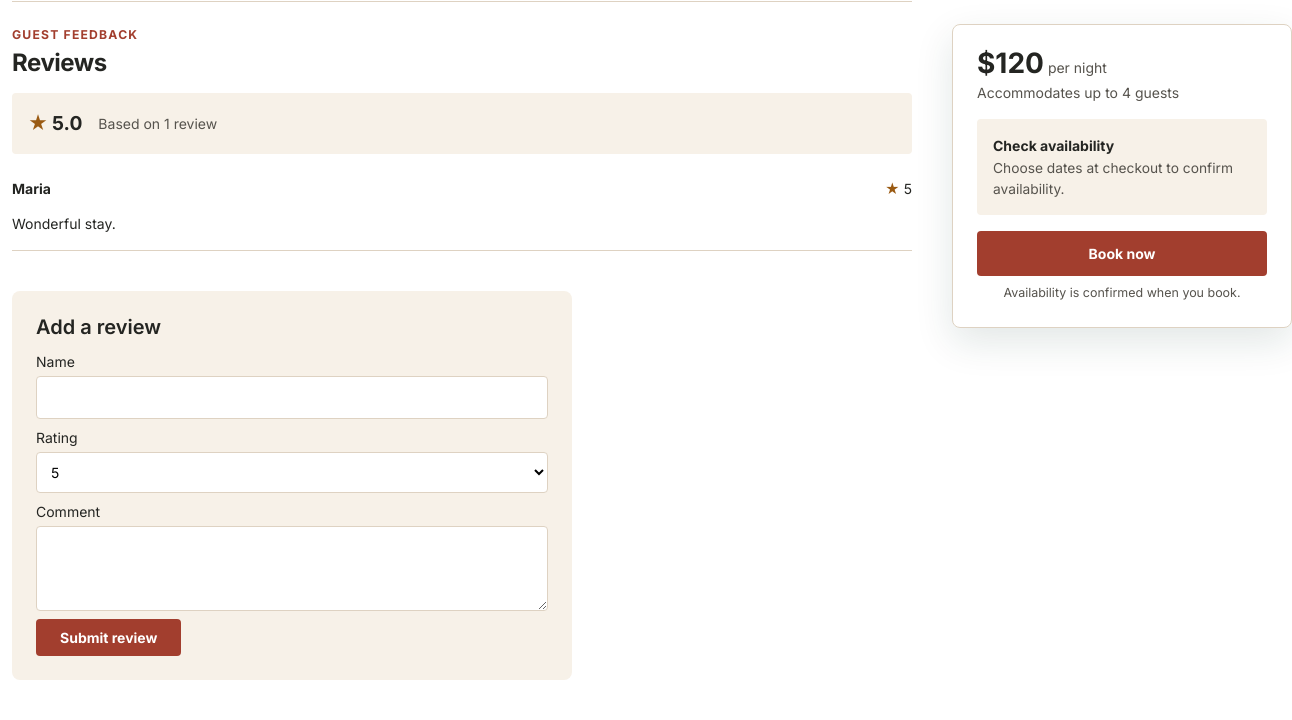
StayDetailPage reviews › keeps the form values and shows an error when submission fails
The image size is (1292, 720).
(page scrolled)
Type "Ada" into the field labelled "Name" at (292, 398), box [36,376,548,419]
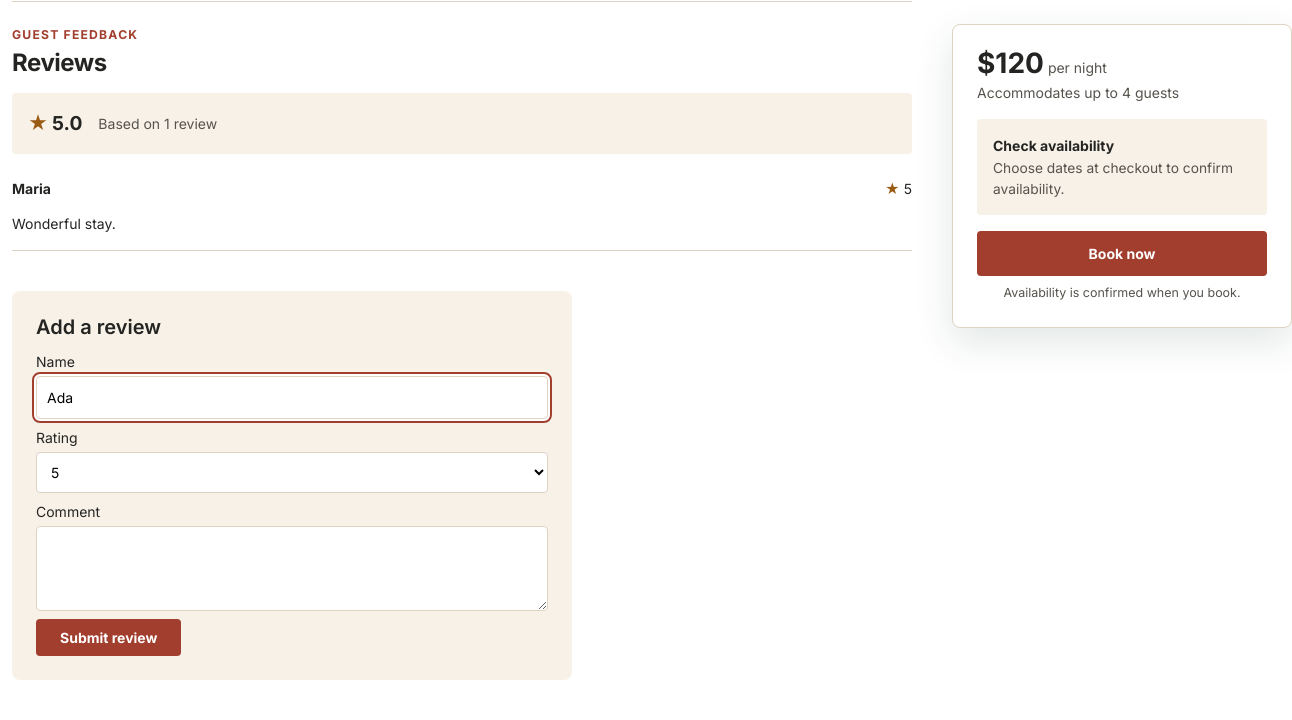
Select "4" in the dropdown labelled "Rating" at (292, 473), box [36,452,548,493]
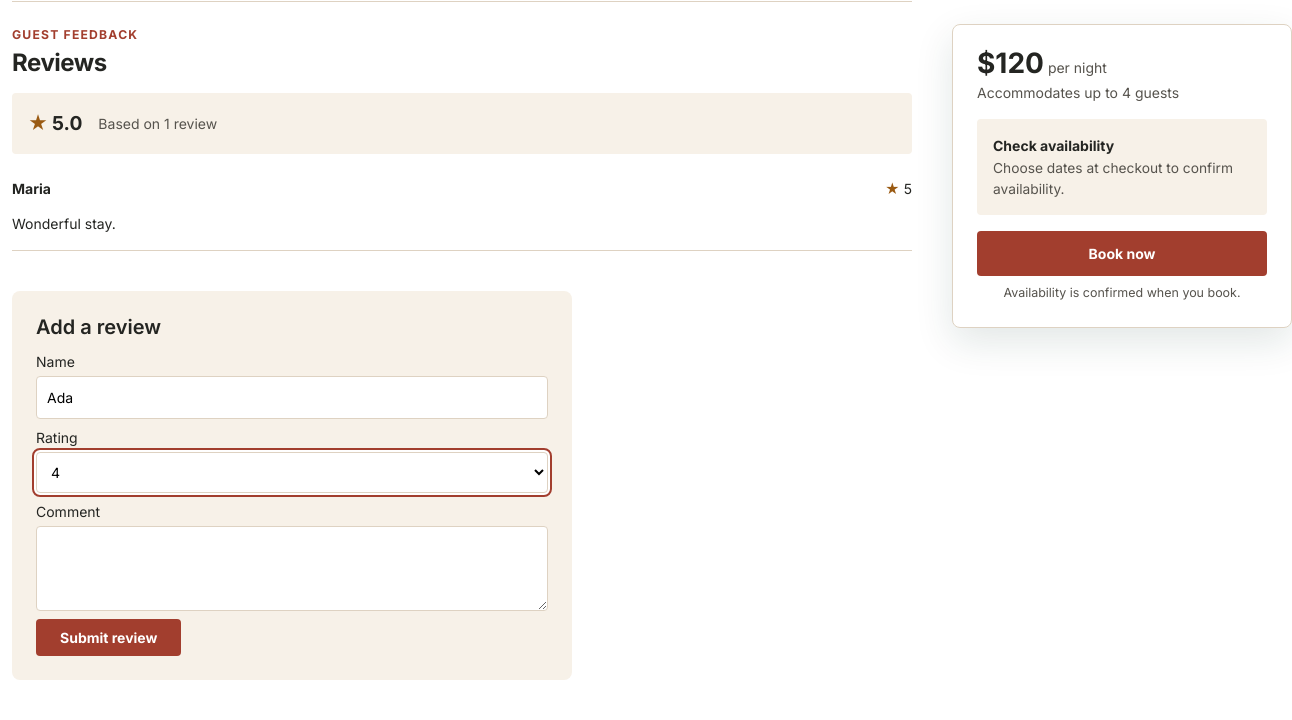
Type "A peaceful weekend by the water." into the text box labelled "Comment" at (292, 569), box [36,526,548,611]
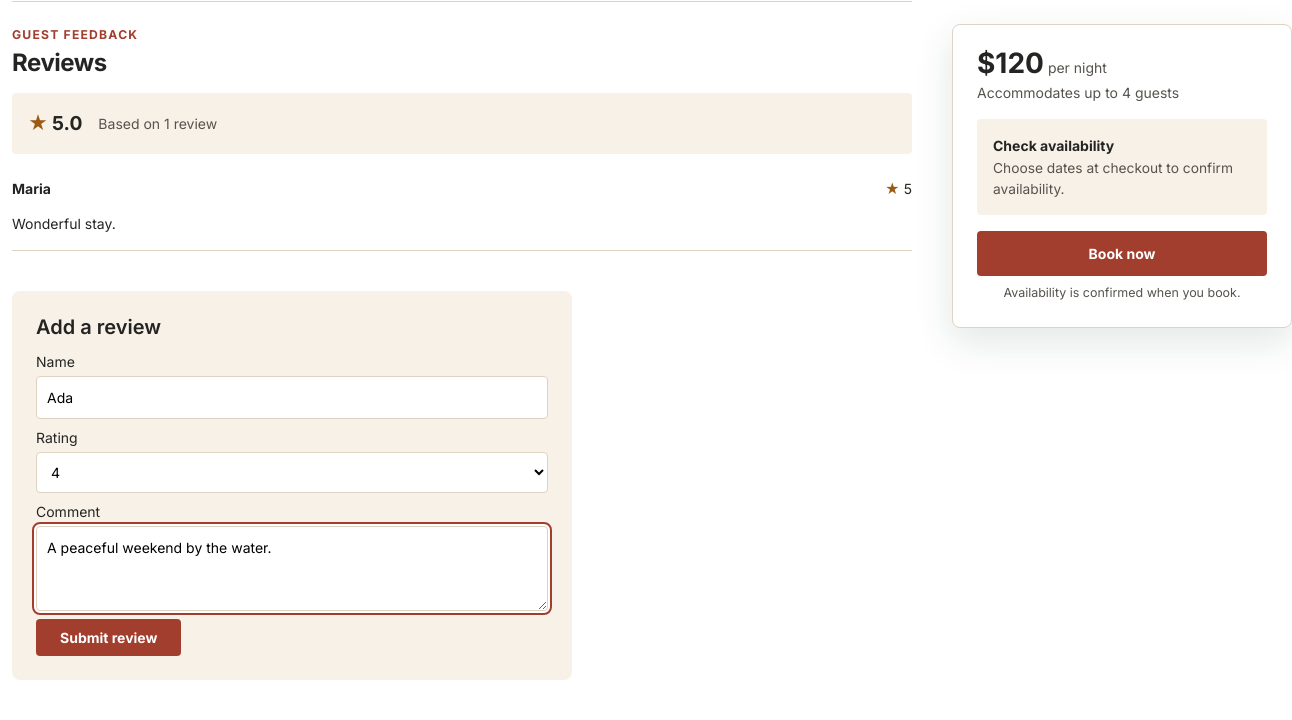
Click the button "Submit review" at (109, 638), box [36,619,181,656]
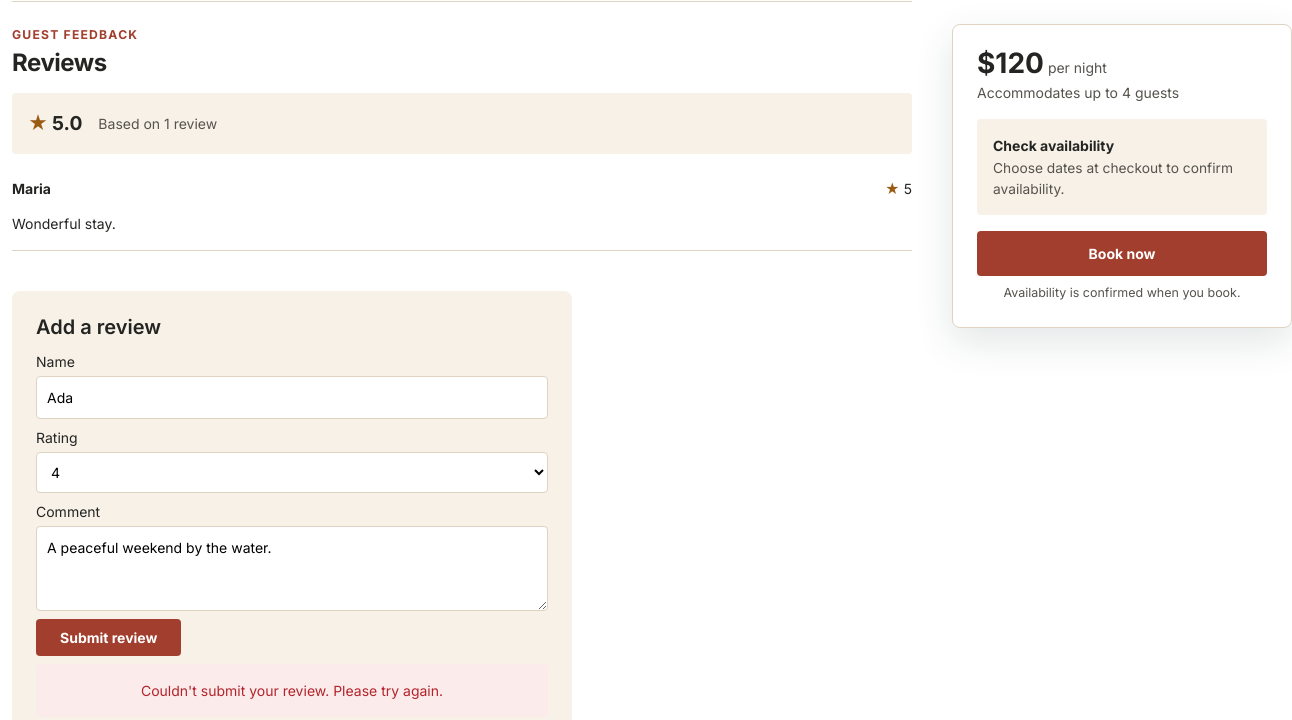
Expected: the text "Couldn't submit your review. Please try again." is shown, [36,664,548,717]
